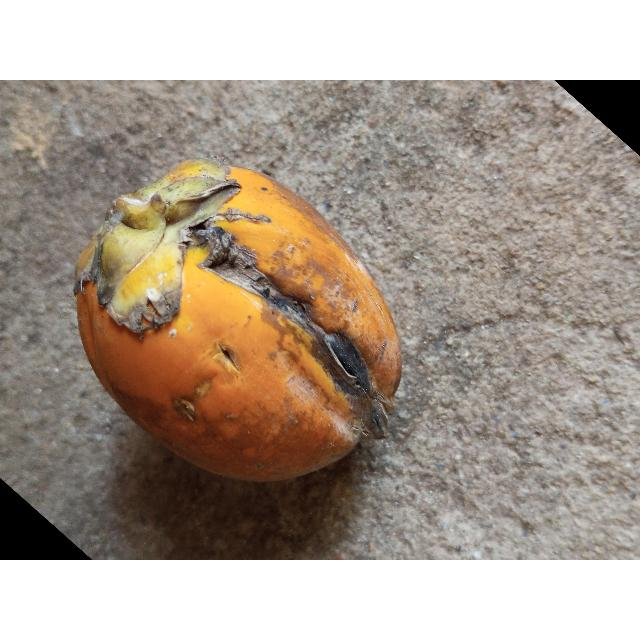damaged: (74, 160, 402, 481)
